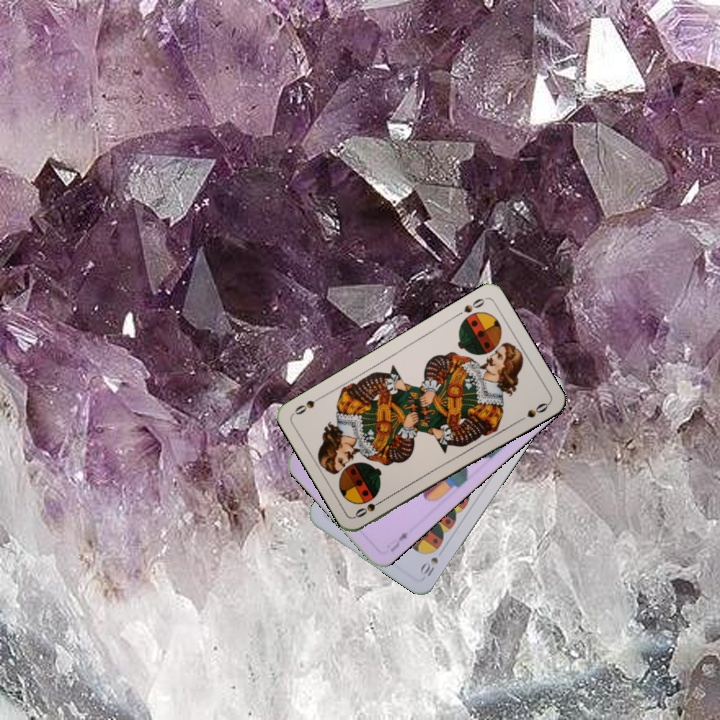EU: (384, 528, 411, 555)
S10: (416, 553, 441, 579)
SO: (351, 494, 388, 520), (451, 294, 488, 320)
